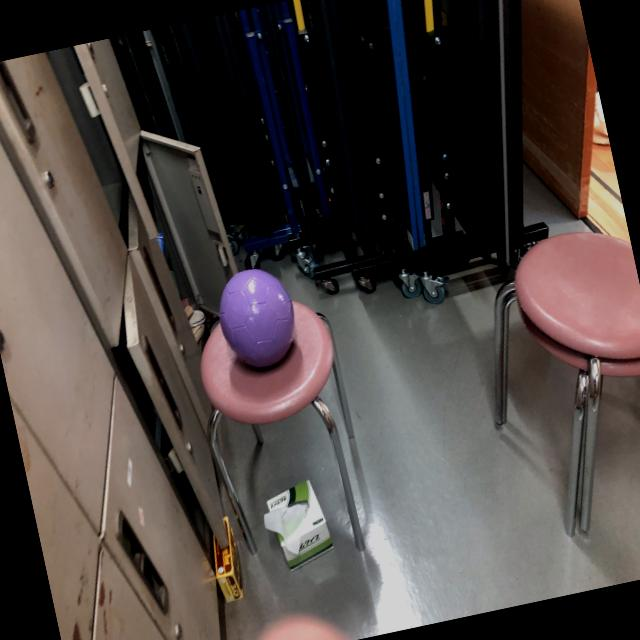purple_ball: (211, 263, 303, 371)
